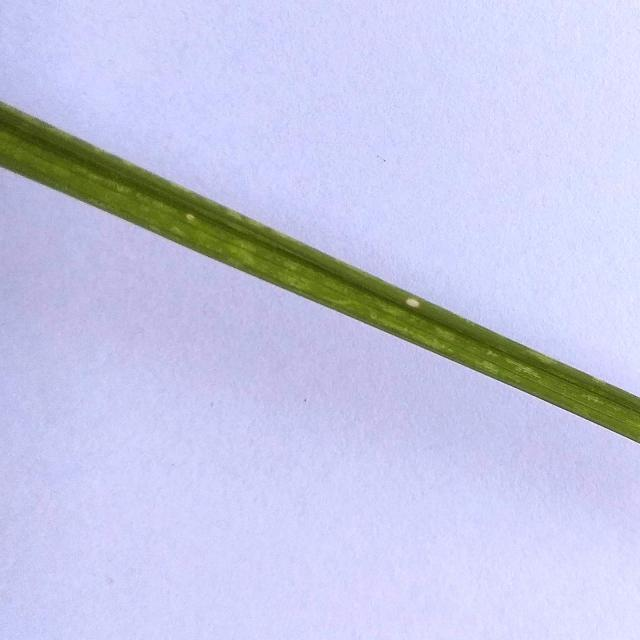Leaf_Blast: (404, 283, 432, 319)
